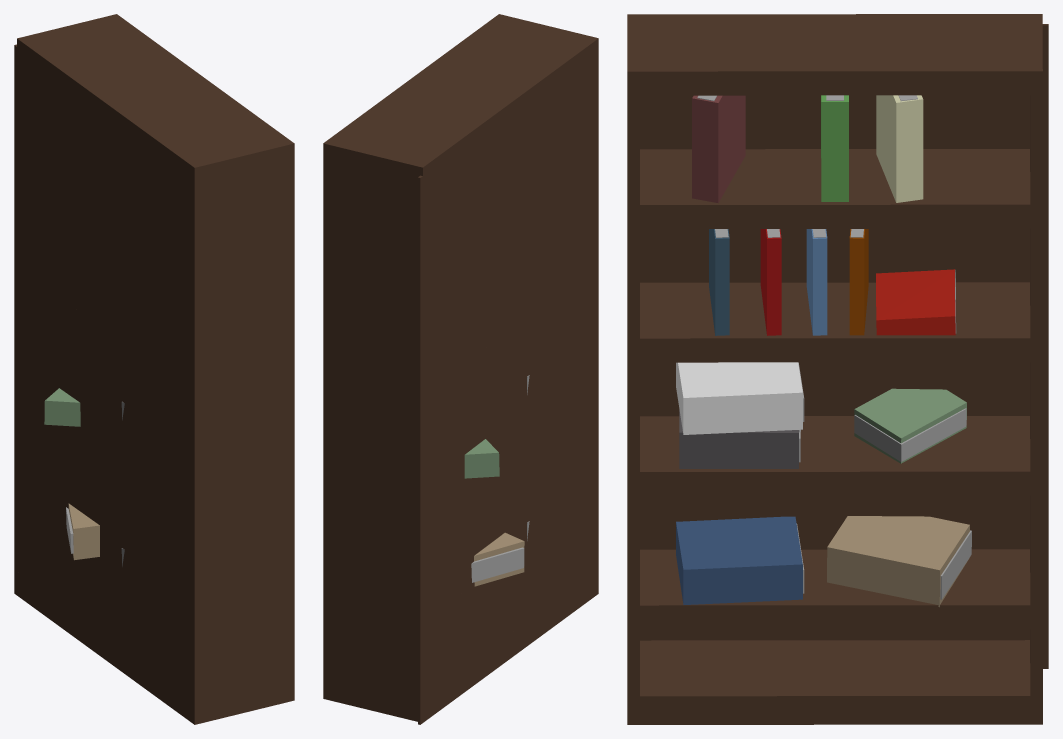
The model's file is book.fbx.
The picture shows the model from 3 angles, left to right: view 1: azimuth 30°, elevation 25°; view 2: azimuth 150°, elevation 25°; view 3: azimuth 270°, elevation 25°; orthographic projection. The views are drawn at different scales.
Parts seen in each view (by area): view 1: Part32; view 2: Part32; view 3: Part32.
Boxes of the visible parts, left/top/right/bottom form: Part32: left=14, top=14, right=294, bottom=724; Part32: left=323, top=14, right=598, bottom=724; Part32: left=627, top=14, right=1048, bottom=724.
Size of the model in its own units: 9184 by 38986 by 22790.
